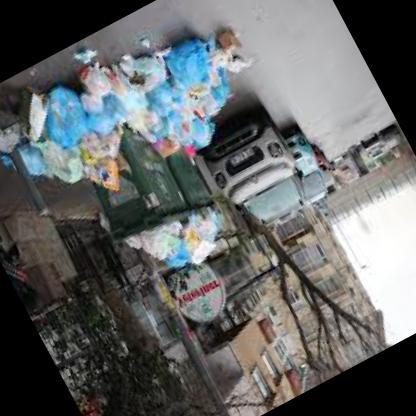Garbage: (124, 6, 267, 144), (148, 18, 266, 149), (80, 40, 196, 158), (9, 74, 127, 188), (132, 203, 233, 284)
